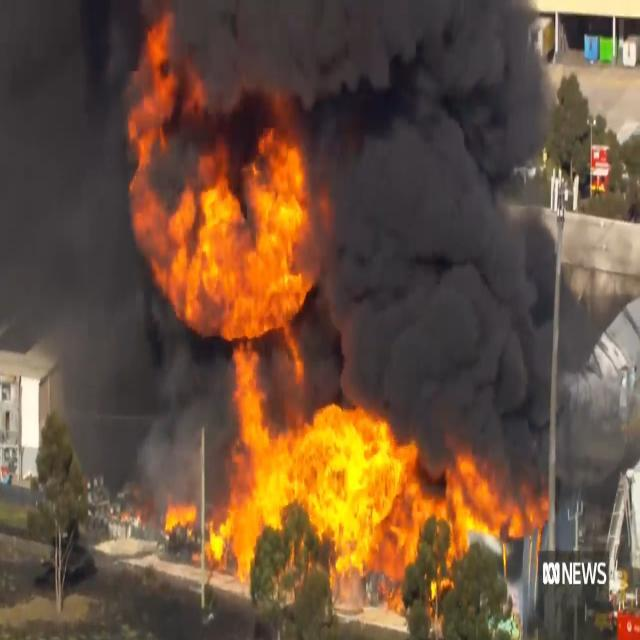fire: (154, 420, 550, 636), (136, 31, 325, 340), (216, 348, 284, 428), (588, 142, 612, 196)
